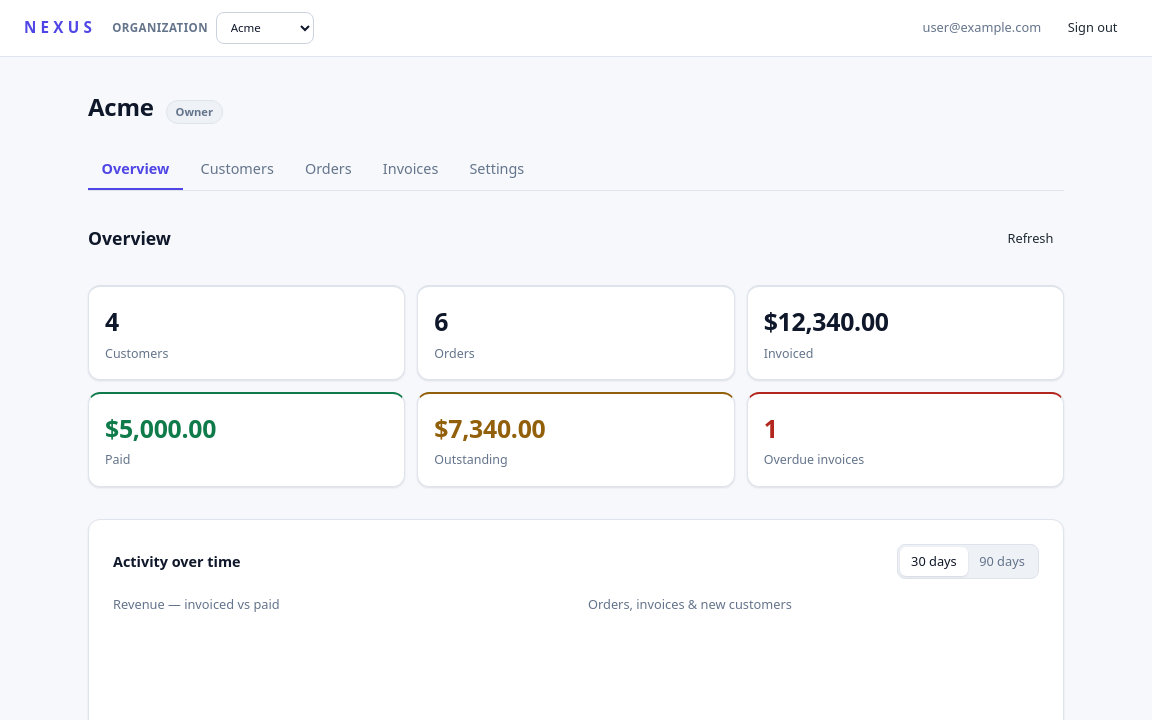
switching organization never shows the previous organization while the new figures are loading
The image size is (1152, 720).
Expected: the heading "Overview" is shown, [88,225,171,251]
Expected: the text "$12,340.00" is shown, [764,304,889,338]
Select "Beedle" in the dropdown labelled "Organization" at coordinates (265, 28), box [216,12,314,44]
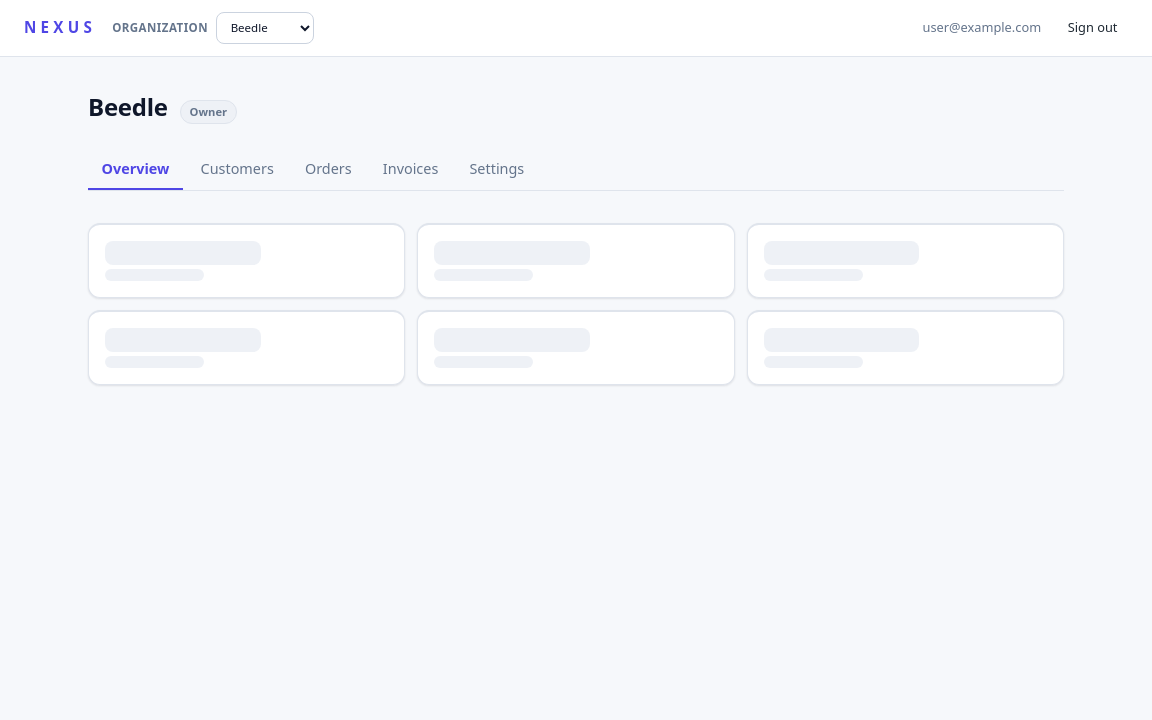
Now the text "$12,340.00" is gone
